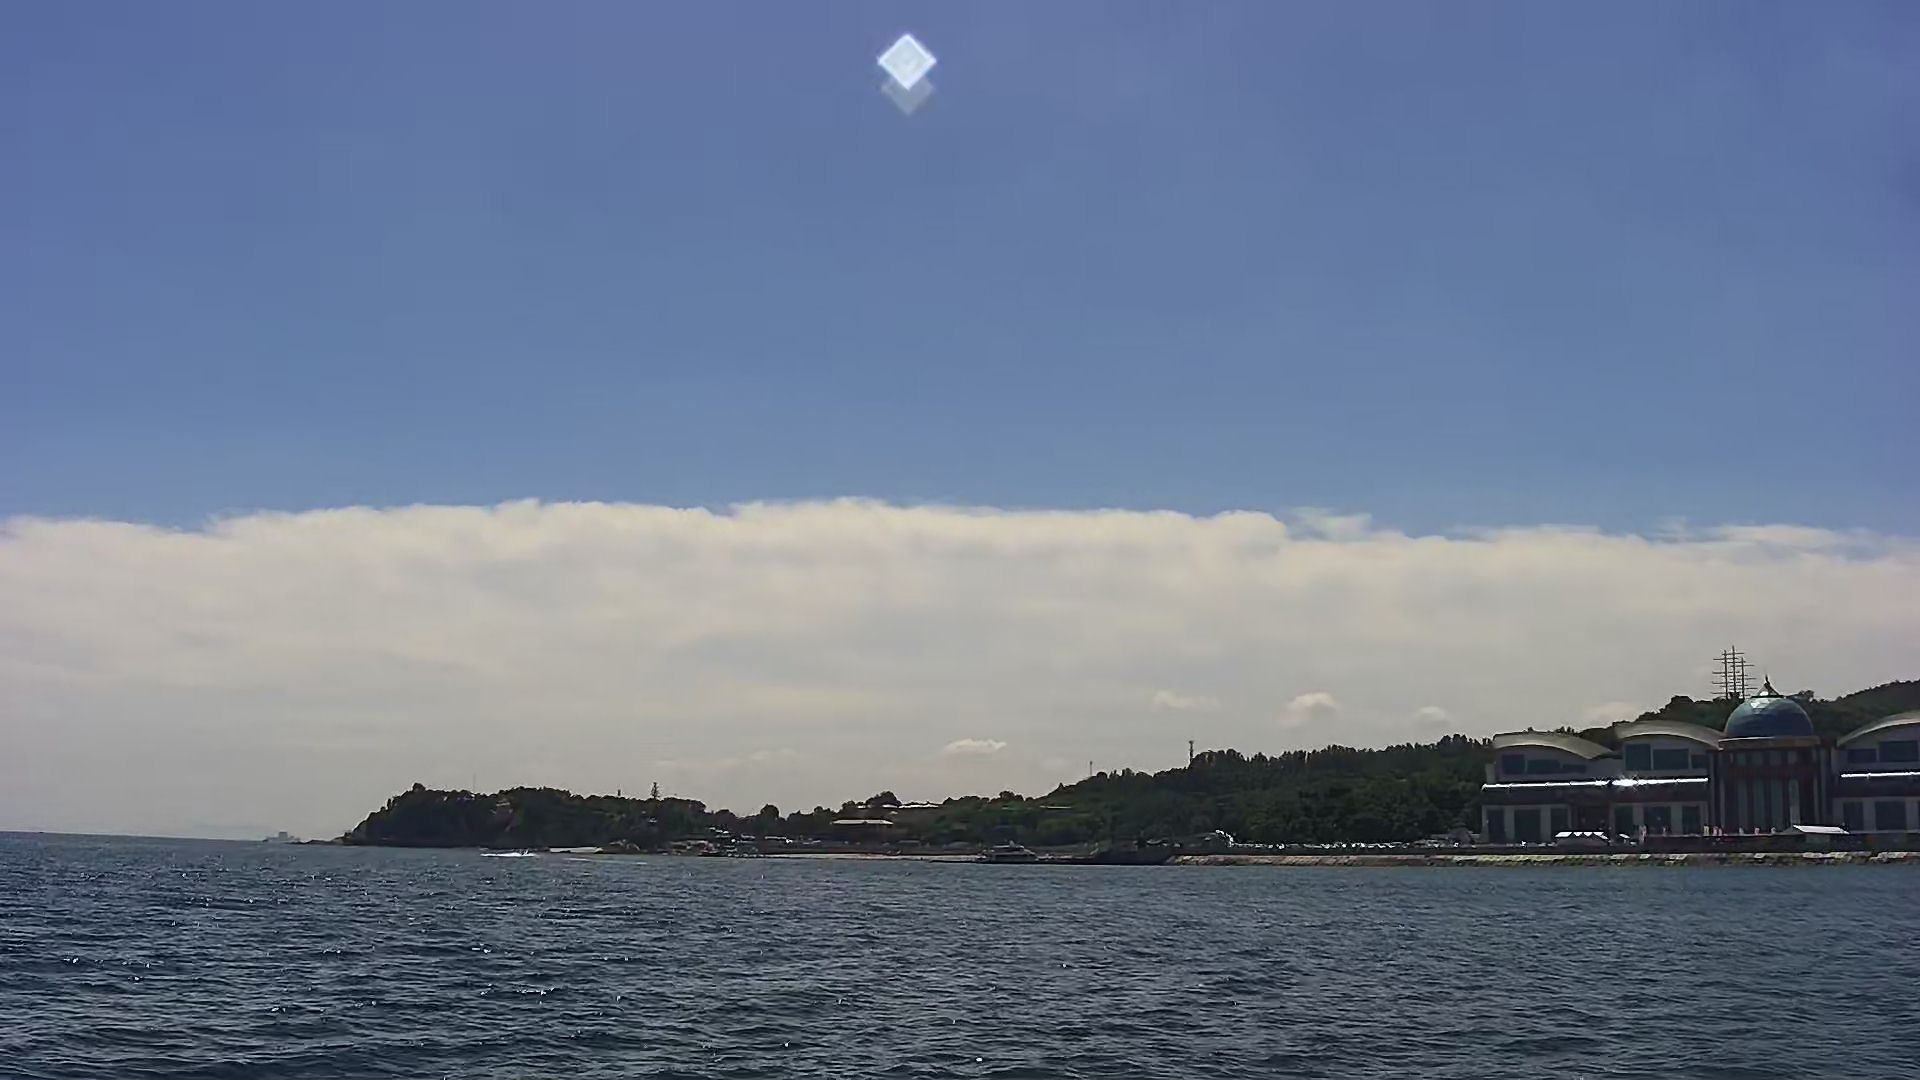boat: (1077, 827, 1188, 876), (965, 837, 1055, 865)
